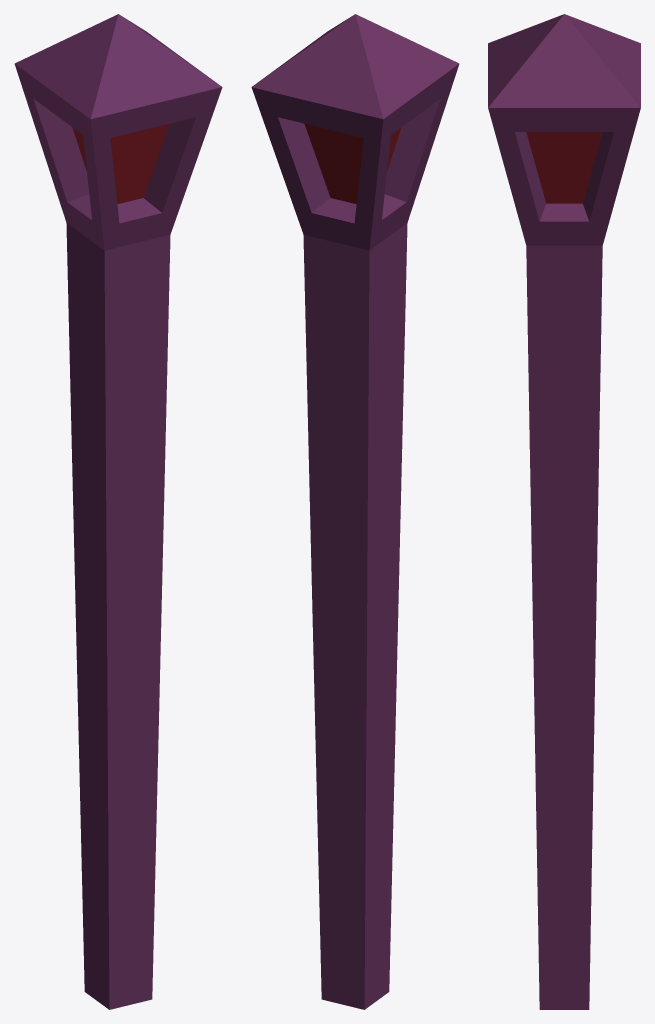
Rendered from RedWand.fbx.
3 renders of one model, left to right at view 1: azimuth 30°, elevation 25°; view 2: azimuth 150°, elevation 25°; view 3: azimuth 270°, elevation 25°, orthographic.
Visible parts, largest first — view 1: BastonRojo; view 2: BastonRojo; view 3: BastonRojo.
Part boxes in pixels (left/top/right/bottom): BastonRojo: left=14, top=14, right=222, bottom=1009; BastonRojo: left=251, top=14, right=459, bottom=1009; BastonRojo: left=488, top=14, right=640, bottom=1009.
Bounding box in the file's own units: 22.5 × 160 × 22.5.
